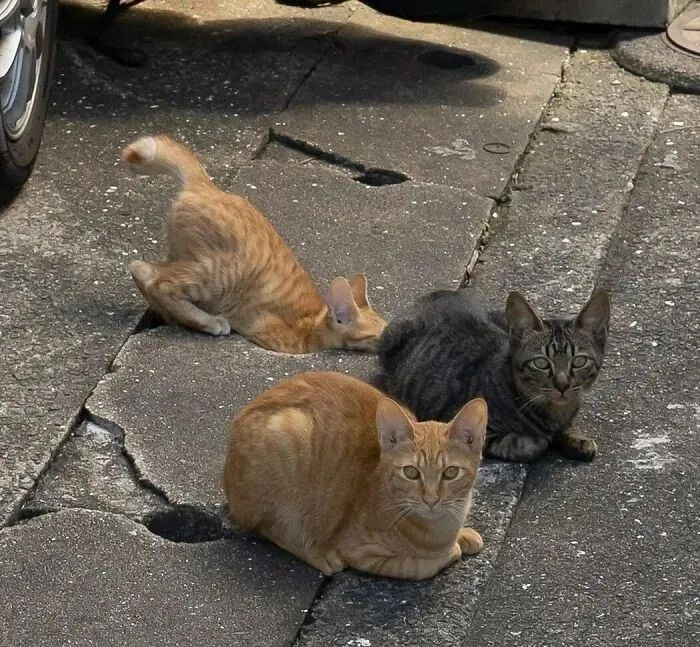cat: (123, 136, 390, 357), (222, 370, 483, 584), (379, 289, 609, 465)
